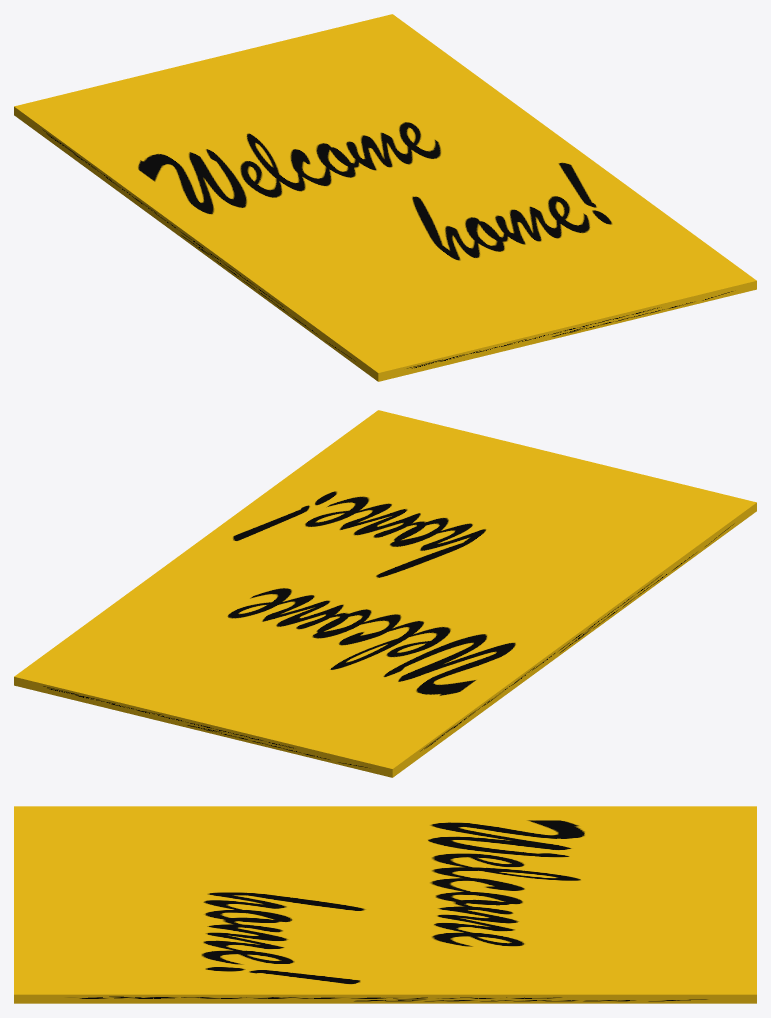
Rendered from doormat.FBX.
The picture shows the model from 3 angles, top to bottom: view 1: azimuth 30°, elevation 25°; view 2: azimuth 150°, elevation 25°; view 3: azimuth 270°, elevation 25°; orthographic projection.
Visible parts, largest first — view 1: Doormat; view 2: Doormat; view 3: Doormat.
Boxes of the visible parts, left/top/right/bottom form: Doormat: left=14, top=14, right=756, bottom=381; Doormat: left=14, top=410, right=756, bottom=777; Doormat: left=14, top=806, right=756, bottom=1003.
Size of the model in its own units: 45 by 1 by 75.
1 material, 1 textured.
